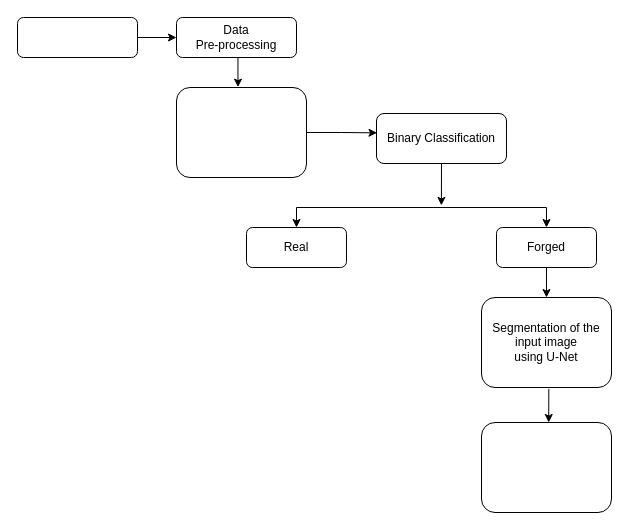
The diagram is 629 pixels wide and 530 high, and some of its shapes have lost their labels. Each missing label, with the centre of its shape:
"Analysis of graph representation of image patches using ViGNN" goes at point (241, 132).
"Image Dataset" goes at point (77, 37).
"Visualization of forged regions through Segmentation Mask" goes at point (546, 467).
